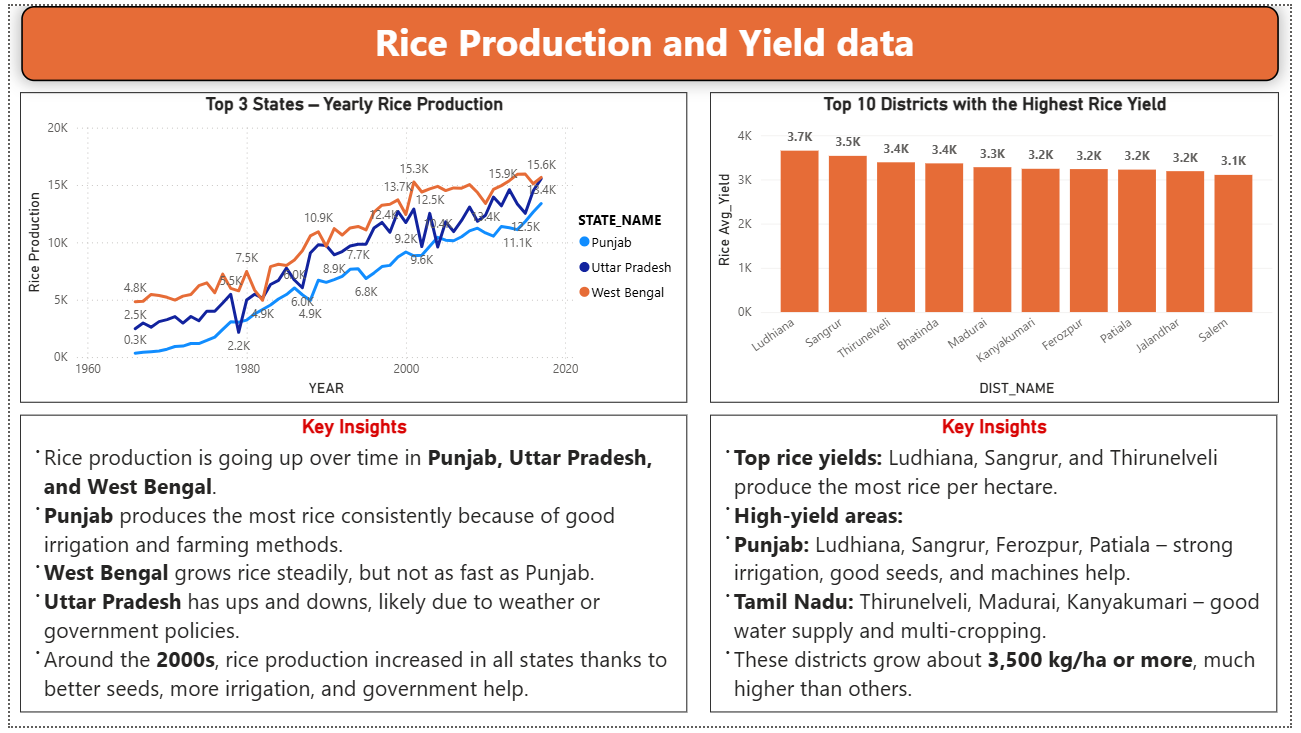

This screenshot's page, from the dashboard's own definition file:
{"tool":"powerbi","page":{"name":"Dashboard-1","canvas":[1280,720],"ordinal":0},"visuals":[{"type":"lineChart","title":"Top 3 States – Yearly Rice Production","fields":{"Category":["Top 3 States – Yearly Rice Production.YEAR"],"Y":["Sum(Top 3 States – Yearly Rice Production.total_rice_production)"],"Series":["Top 3 States – Yearly Rice Production.STATE_NAME"]},"box":[10,86.2,667.5,310],"z":0},{"type":"textbox","title":"Key Insights","box":[10,408.8,667.5,297.5],"z":1000},{"type":"columnChart","title":"Top 10 Districts with the Highest Rice Yield","fields":{"Category":["Query1.DIST_NAME"],"Y":["Sum(Query1.avg_yield)"]},"box":[700,86.2,568.8,310],"z":2000},{"type":"textbox","title":"Key Insights","box":[700,408.8,567.5,297.5],"z":3000},{"type":"textbox","box":[11.2,0,1257.5,75],"z":4000}]}

Visuals, with their boxes in screenshot pixels (x1, y1, x2, y2), scaled from the page's 1280x720 canvas onto the 1301x733 screenshot:
"Top 3 States – Yearly Rice Production" lineChart: Rect(10, 88, 689, 403)
"Key Insights" textbox: Rect(10, 416, 689, 719)
"Top 10 Districts with the Highest Rice Yield" columnChart: Rect(711, 88, 1290, 403)
"Key Insights" textbox: Rect(711, 416, 1288, 719)
textbox: Rect(11, 0, 1290, 76)
